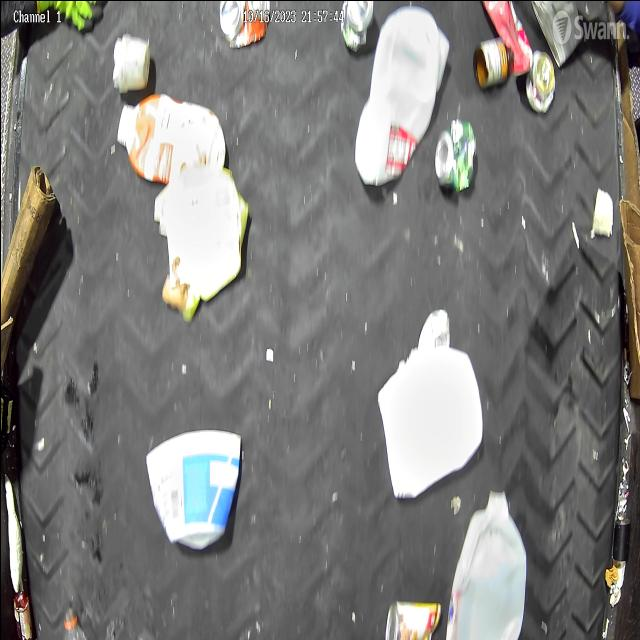can: (433, 116, 478, 194), (217, 0, 271, 50), (383, 599, 441, 640), (524, 48, 556, 113), (340, 0, 374, 50)
milk_jug: (353, 3, 450, 186), (443, 488, 527, 640)
